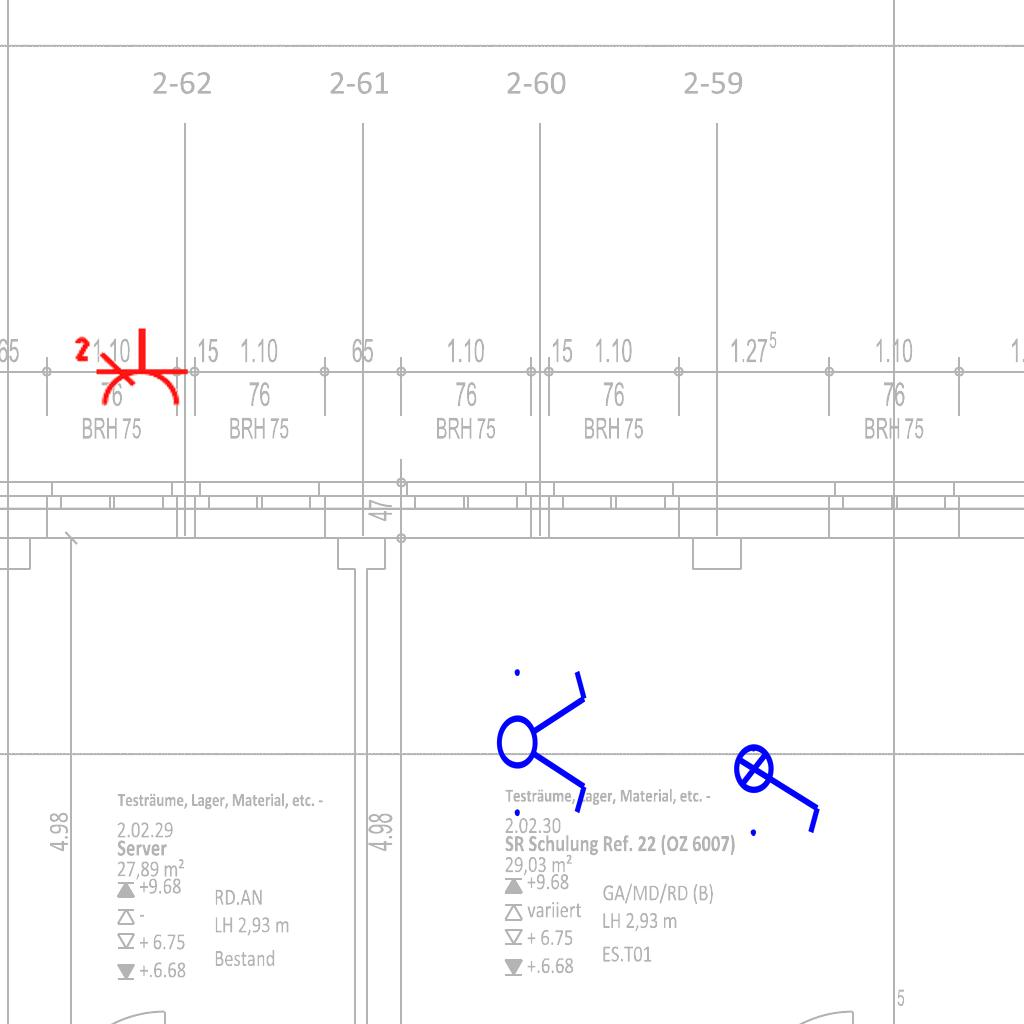Ausschalter_beleuchtet: (732, 730, 828, 842)
Schukosteckdose_mehrfach: (72, 322, 193, 410)
Serienschalter: (495, 657, 591, 825)
